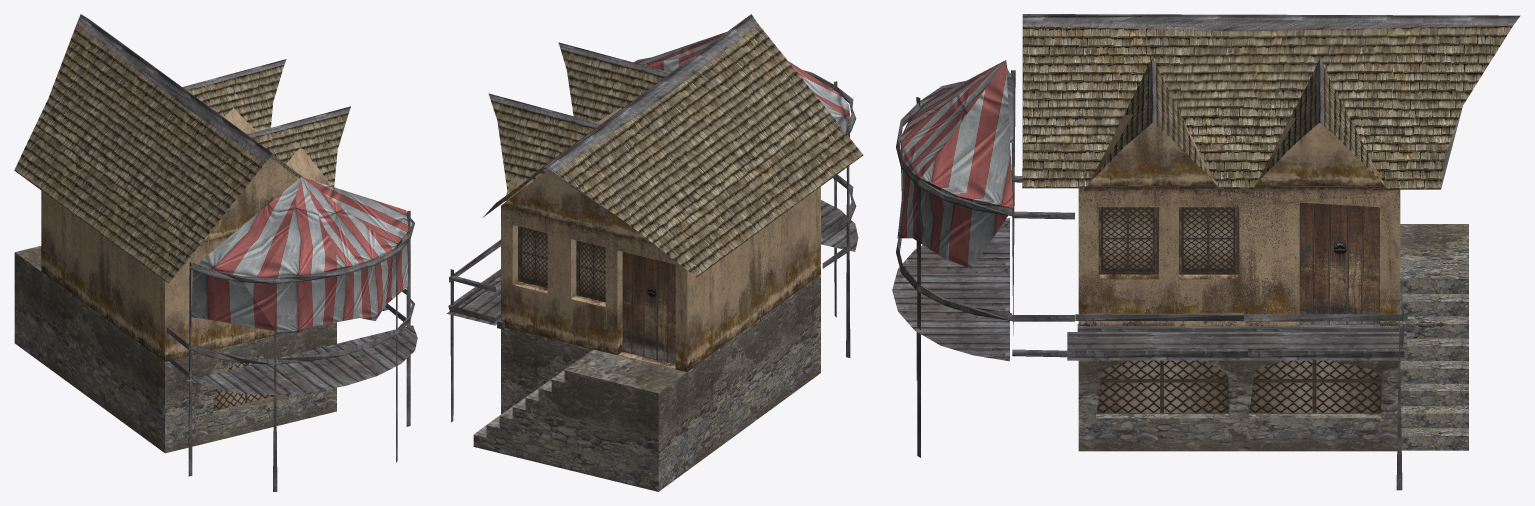
Rendered from v3_house3_LOD2.dae.
3 views of the same model, side by side, from view 1: azimuth 30°, elevation 25°; view 2: azimuth 150°, elevation 25°; view 3: azimuth 270°, elevation 25° (orthographic). The views are drawn at different scales.
Visible parts, largest first — view 1: roof_01, bricks_old06, cloth_001_c, con_dirt_01, woodPlanks, doorwindow_set; view 2: roof_01, bricks_old06, con_dirt_01, woodPlanks, doorwindow_set, cloth_001_c; view 3: roof_01, woodPlanks, con_dirt_01, bricks_old06, doorwindow_set, cloth_001_c.
Boxes of the visible parts, x1,y1,x2,y2 form: roof_01: (14,24,348,283); bricks_old06: (14,246,336,453); cloth_001_c: (191,177,408,335); con_dirt_01: (41,108,330,362); woodPlanks: (77,14,417,491); doorwindow_set: (213,355,281,410); roof_01: (483,24,863,277); bricks_old06: (473,274,820,491); con_dirt_01: (501,107,820,371); woodPlanks: (446,14,858,422); doorwindow_set: (518,226,675,364); cloth_001_c: (636,32,849,177); roof_01: (1022,25,1512,189); woodPlanks: (892,14,1520,490); con_dirt_01: (1078,114,1400,326); bricks_old06: (1078,224,1468,451); doorwindow_set: (1096,202,1381,413); cloth_001_c: (897,60,1013,268).
Bounding box in the file's own units: 6.85 × 8.28 × 12.
